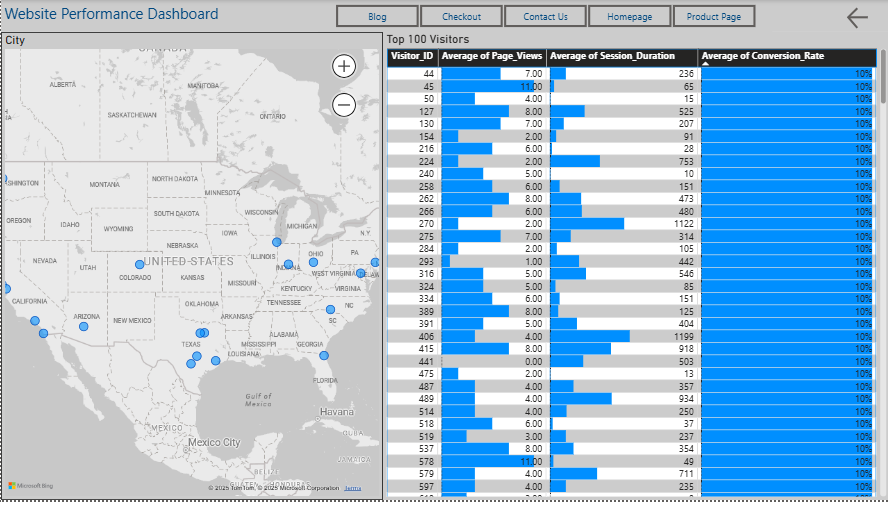

Layout of this report page (visuals, bound fields, positions):
{"tool":"powerbi","page":{"name":"Page 2","canvas":[1280,720],"ordinal":1},"visuals":[{"type":"textbox","box":[0,0,1280.2,46.1],"z":0},{"type":"tableEx","title":"Top 100 Visitors","fields":{"Values":["website_performance_analytics.Visitor_ID","Avg(website_performance_analytics.Page_Views)","Avg(website_performance_analytics.Session_Duration)","Avg(website_performance_analytics.Conversion_Rate)"]},"box":[550.1,46.1,730.1,673.9],"z":1000},{"type":"map","fields":{"Category":["website_performance_analytics.City","website_performance_analytics.Conversion_Rate"]},"box":[0,46,550,674],"z":2000},{"type":"slicer","fields":{"Values":["website_performance_analytics.Exit_Pages"]},"box":[456.5,0,653.8,46.1],"z":3000},{"type":"actionButton","box":[1213.9,5.8,66.2,40.3],"z":4000}]}

Visuals, with their boxes on the page's 1280x720 design canvas (x1, y1, x2, y2). These are canvas units, not pixel positions in the 888x505 screenshot, which may show the page scaled, cropped or inside an application window:
textbox: <box>0,0,1280,46</box>
"Top 100 Visitors" tableEx: <box>550,46,1280,720</box>
map - website_performance_analytics.City x website_performance_analytics.Conversion_Rate: <box>0,46,550,720</box>
slicer - website_performance_analytics.Exit_Pages: <box>456,0,1110,46</box>
actionButton: <box>1214,6,1280,46</box>
